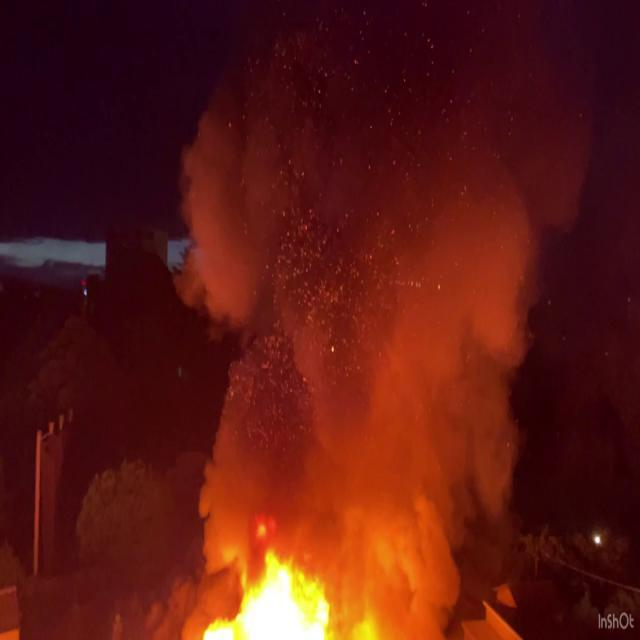Fire: (190, 540, 392, 640)
Smoke: (162, 3, 600, 553)
